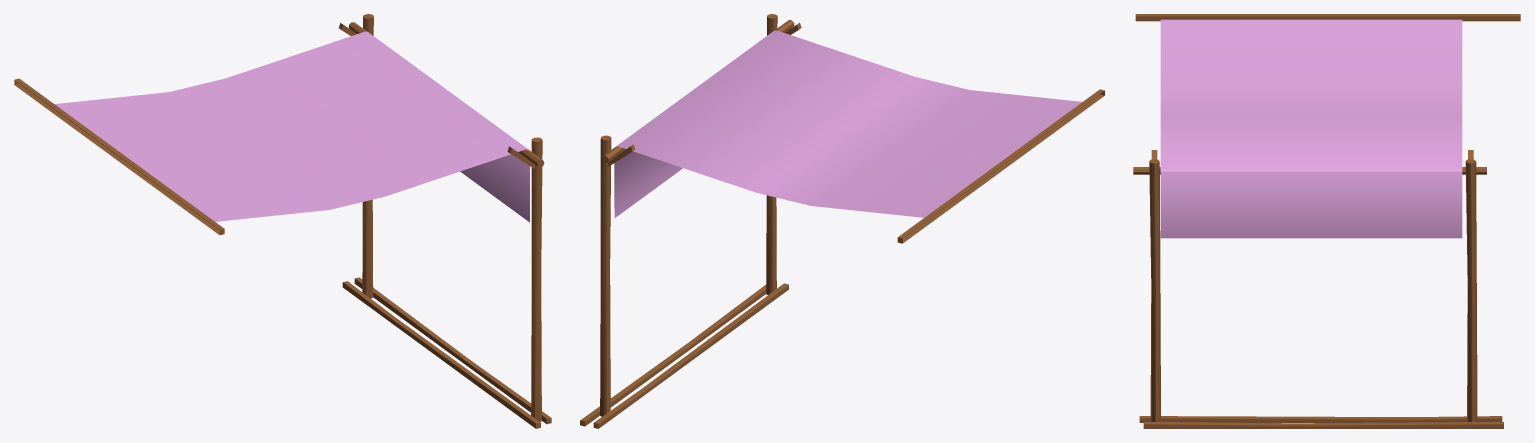
The model's file is dom_znati_naves_1_kover.fbx.
The picture shows the model from 3 angles, left to right: view 1: azimuth 30°, elevation 25°; view 2: azimuth 150°, elevation 25°; view 3: azimuth 270°, elevation 25°; orthographic projection. The views are drawn at different scales.
Visible parts, largest first — view 1: dom_znati_naves_1_kover; view 2: dom_znati_naves_1_kover; view 3: dom_znati_naves_1_kover.
Part boxes in pixels (bbox=[...]): dom_znati_naves_1_kover: bbox=[14, 14, 551, 428]; dom_znati_naves_1_kover: bbox=[580, 14, 1104, 428]; dom_znati_naves_1_kover: bbox=[1133, 14, 1520, 428].
Size of the model in its own units: 31 by 24.75 by 32.96.
